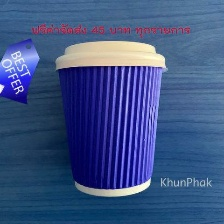paper_cup: (48, 37, 172, 201)
